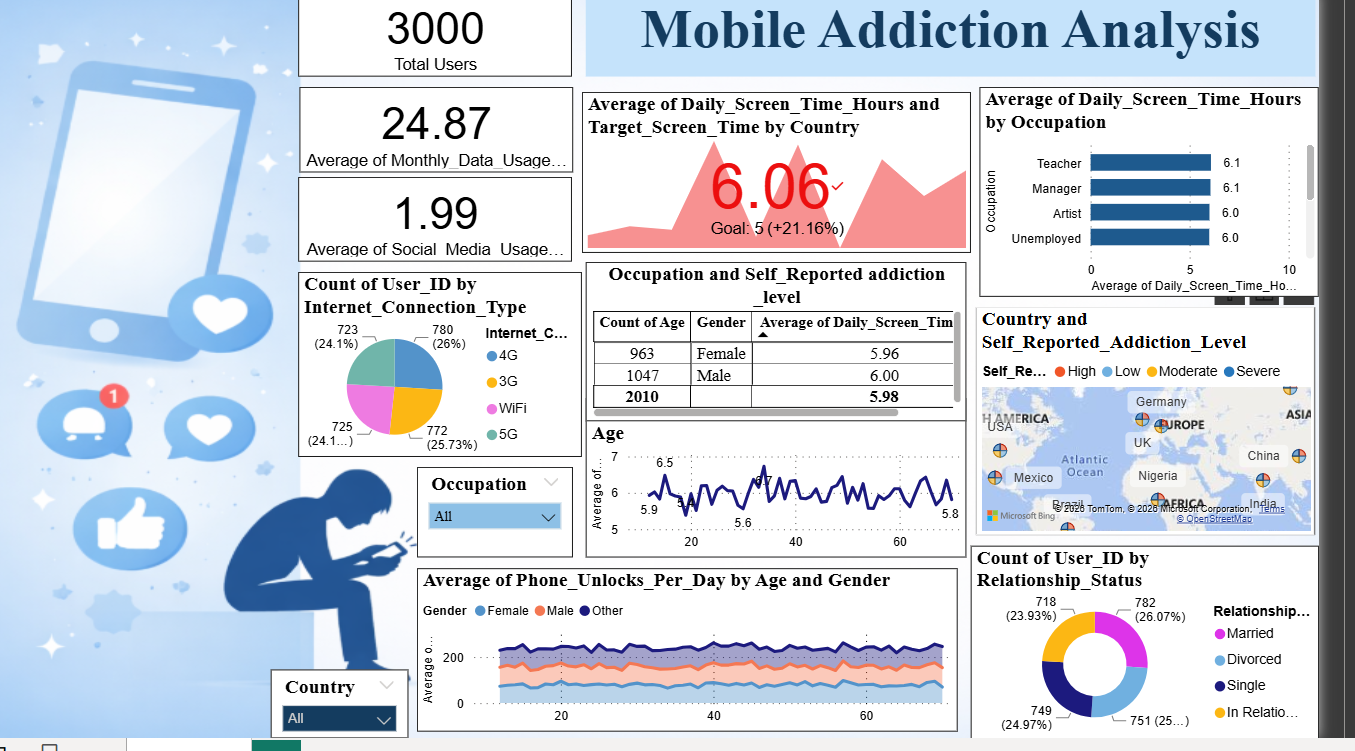

The page's visual inventory and layout, read from the dashboard file:
{"tool":"powerbi","page":{"name":"Dashboard","canvas":[1280,720],"ordinal":0},"visuals":[{"type":"donutChart","fields":{"Category":["mobile_addiction_data[1].Relationship_Status"],"Y":["CountNonNull(mobile_addiction_data[1].User_ID)"]},"box":[943.8,533.8,336.2,186.2],"z":0},{"type":"map","fields":{"Category":["mobile_addiction_data[1].Country"],"Series":["mobile_addiction_data[1].Self_Reported_Addiction_Level"]},"box":[948.8,303.8,327.5,220],"z":1000},{"type":"kpi","fields":{"Indicator":["Avg(mobile_addiction_data[1].Daily_Screen_Time_Hours)"],"Goal":["mobile_addiction_data[1].Target_Screen_Time"],"TrendLine":["mobile_addiction_data[1].Country"]},"box":[568.8,96.2,375,155],"z":3000},{"type":"slicer","fields":{"Values":["mobile_addiction_data[1].Occupation"]},"box":[410,458.8,150,87.5],"z":4000},{"type":"lineChart","fields":{"Category":["mobile_addiction_data[1].Age"],"Y":["Avg(mobile_addiction_data[1].Daily_Screen_Time_Hours)"]},"box":[572.5,392.5,367.5,153.8],"z":5000},{"type":"clusteredBarChart","fields":{"Category":["mobile_addiction_data[1].Occupation"],"Y":["Avg(mobile_addiction_data[1].Daily_Screen_Time_Hours)"]},"box":[952.5,91.2,327.5,202.5],"z":6000},{"type":"stackedAreaChart","fields":{"Category":["mobile_addiction_data[1].Age"],"Y":["Avg(mobile_addiction_data[1].Phone_Unlocks_Per_Day)"],"Series":["mobile_addiction_data[1].Gender"]},"box":[410,556.2,521.2,157.5],"z":7000},{"type":"pieChart","fields":{"Category":["mobile_addiction_data[1].Internet_Connection_Type"],"Y":["CountNonNull(mobile_addiction_data[1].User_ID)"]},"box":[295,270,273.8,178.8],"z":8000},{"type":"card","fields":{"Values":["mobile_addiction_data[1].Total Users"]},"box":[295,0,263.8,81.2],"z":9000},{"type":"card","fields":{"Values":["Avg(mobile_addiction_data[1].Monthly_Data_Usage_GB)"]},"box":[296.2,91.2,263.8,82.5],"z":10000},{"type":"card","fields":{"Values":["Avg(mobile_addiction_data[1].Social_Media_Usage_Hours)"]},"box":[295,178.8,263.8,81.2],"z":11000},{"type":"textbox","box":[572.5,0,703.8,81.2],"z":12000},{"type":"slicer","fields":{"Values":["mobile_addiction_data[1].Country"]},"box":[268.8,653.8,132.5,66.2],"z":13000},{"type":"tableEx","title":"Occupation and Self_Reported addiction _level","fields":{"Values":["CountNonNull(mobile_addiction_data[1].Age)","mobile_addiction_data[1].Gender","Avg(mobile_addiction_data[1].Daily_Screen_Time_Hours)"]},"box":[572.5,260,367.5,153.8],"z":13001}]}

Visuals, with their boxes in screenshot pixels (x1, y1, x2, y2), scaled from the page's 1280x720 canvas onto the 1355x751 screenshot:
donutChart - mobile_addiction_data[1].Relationship_Status x CountNonNull(mobile_addiction_data[1].User_ID): Rect(999, 557, 1354, 750)
map - mobile_addiction_data[1].Country x mobile_addiction_data[1].Self_Reported_Addiction_Level: Rect(1004, 317, 1351, 546)
kpi - Avg(mobile_addiction_data[1].Daily_Screen_Time_Hours) x mobile_addiction_data[1].Target_Screen_Time: Rect(602, 100, 999, 262)
slicer - mobile_addiction_data[1].Occupation: Rect(434, 479, 593, 570)
lineChart - mobile_addiction_data[1].Age x Avg(mobile_addiction_data[1].Daily_Screen_Time_Hours): Rect(606, 409, 995, 570)
clusteredBarChart - mobile_addiction_data[1].Occupation x Avg(mobile_addiction_data[1].Daily_Screen_Time_Hours): Rect(1008, 95, 1354, 306)
stackedAreaChart - mobile_addiction_data[1].Age x Avg(mobile_addiction_data[1].Phone_Unlocks_Per_Day): Rect(434, 580, 986, 744)
pieChart - mobile_addiction_data[1].Internet_Connection_Type x CountNonNull(mobile_addiction_data[1].User_ID): Rect(312, 282, 602, 468)
card - mobile_addiction_data[1].Total Users: Rect(312, 0, 592, 85)
card - Avg(mobile_addiction_data[1].Monthly_Data_Usage_GB): Rect(314, 95, 593, 181)
card - Avg(mobile_addiction_data[1].Social_Media_Usage_Hours): Rect(312, 186, 592, 271)
textbox: Rect(606, 0, 1351, 85)
slicer - mobile_addiction_data[1].Country: Rect(285, 682, 425, 750)
"Occupation and Self_Reported addiction _level" tableEx: Rect(606, 271, 995, 432)
